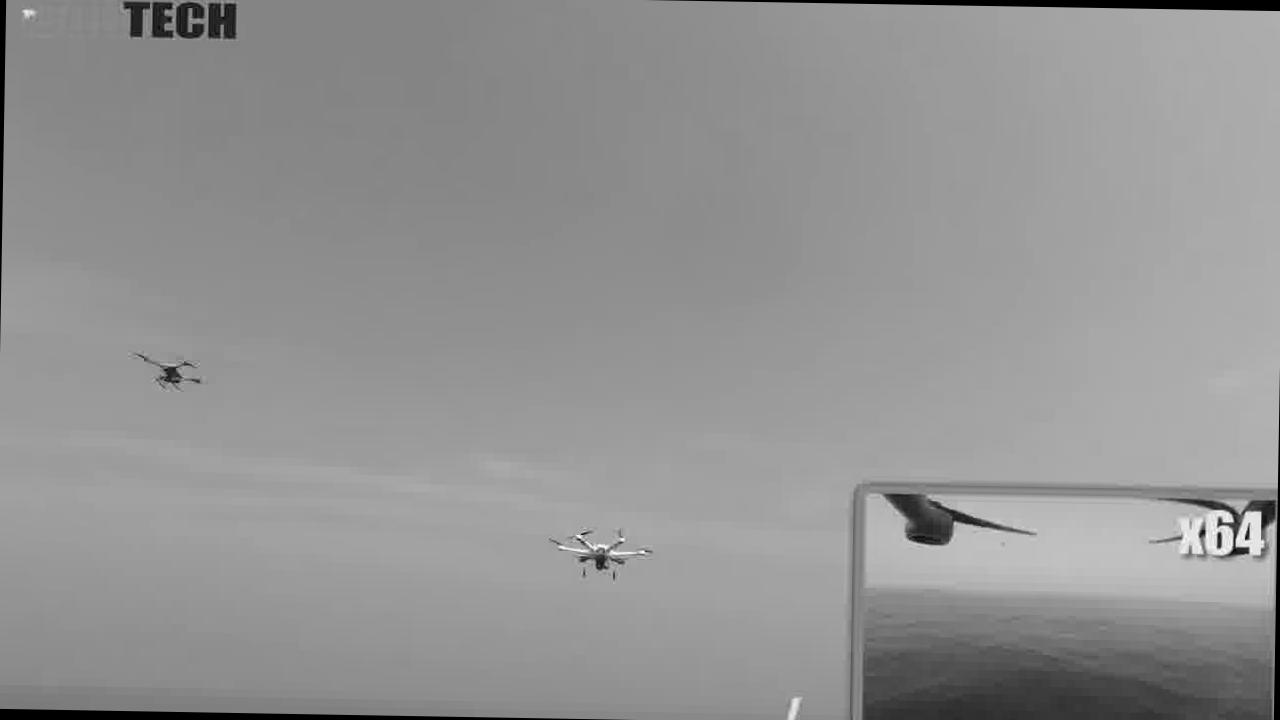drone: (526, 514, 654, 594)
